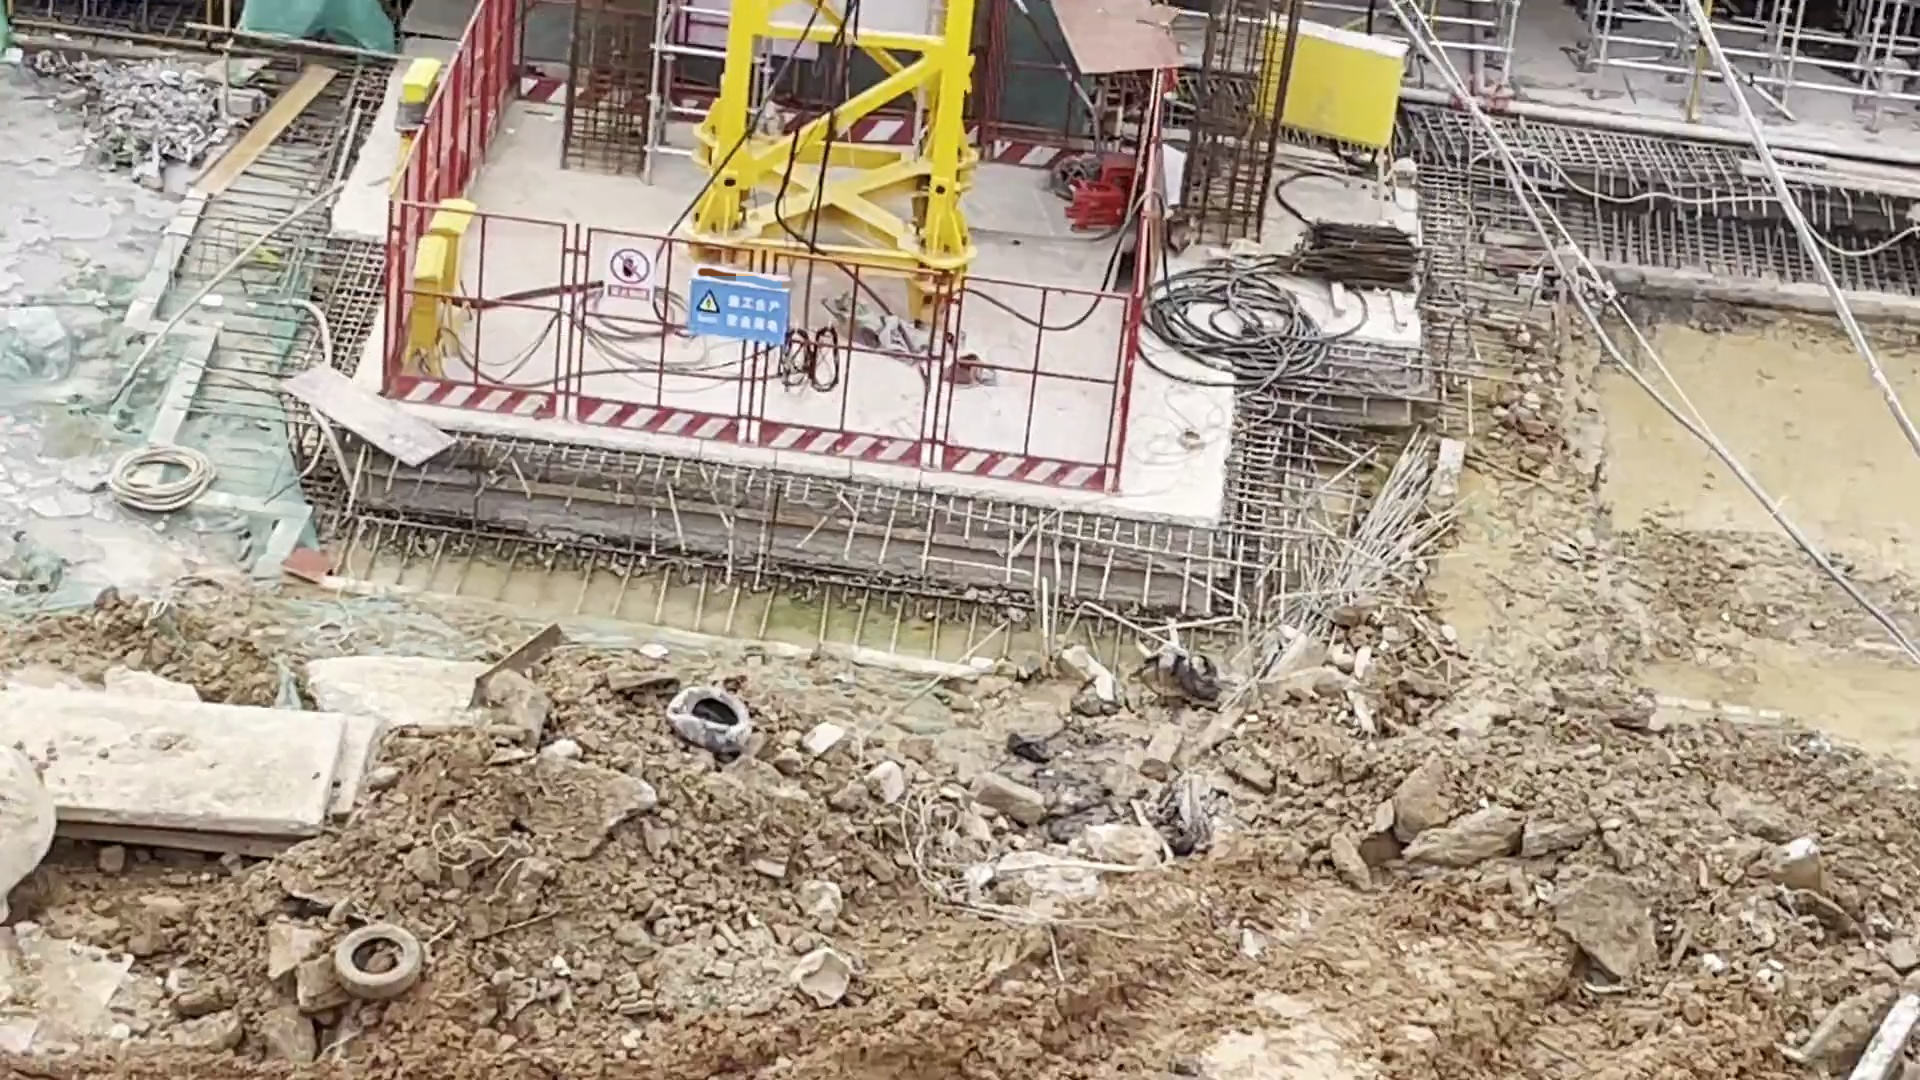ebox: (1262, 18, 1393, 170), (401, 199, 463, 390), (396, 61, 431, 138)
fence: (372, 9, 512, 373), (938, 255, 1141, 495), (388, 194, 568, 438), (756, 251, 930, 481), (575, 218, 752, 443)
slogan: (684, 268, 789, 336), (604, 247, 651, 301)
